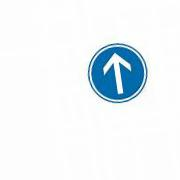forward: (87, 43, 149, 104)
